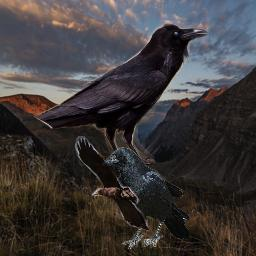Crow: (32, 19, 209, 164), (101, 147, 189, 249), (75, 136, 150, 232)
